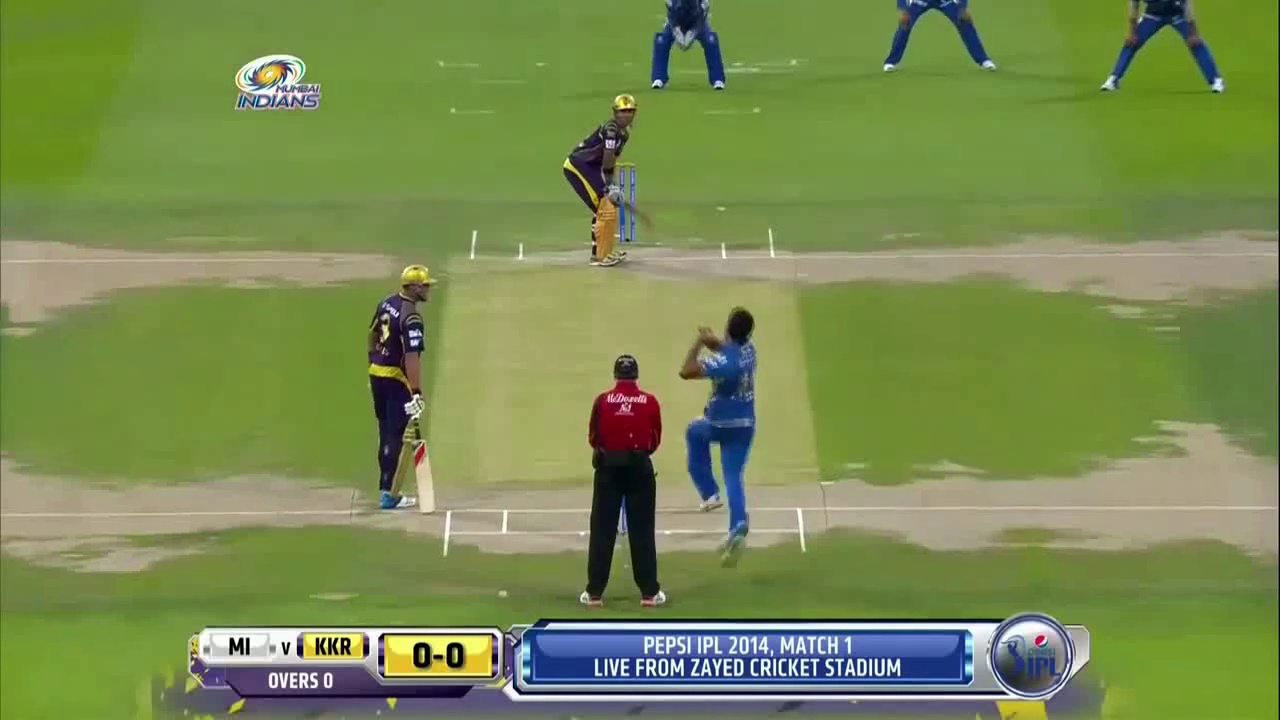bat: (409, 438, 437, 513)
